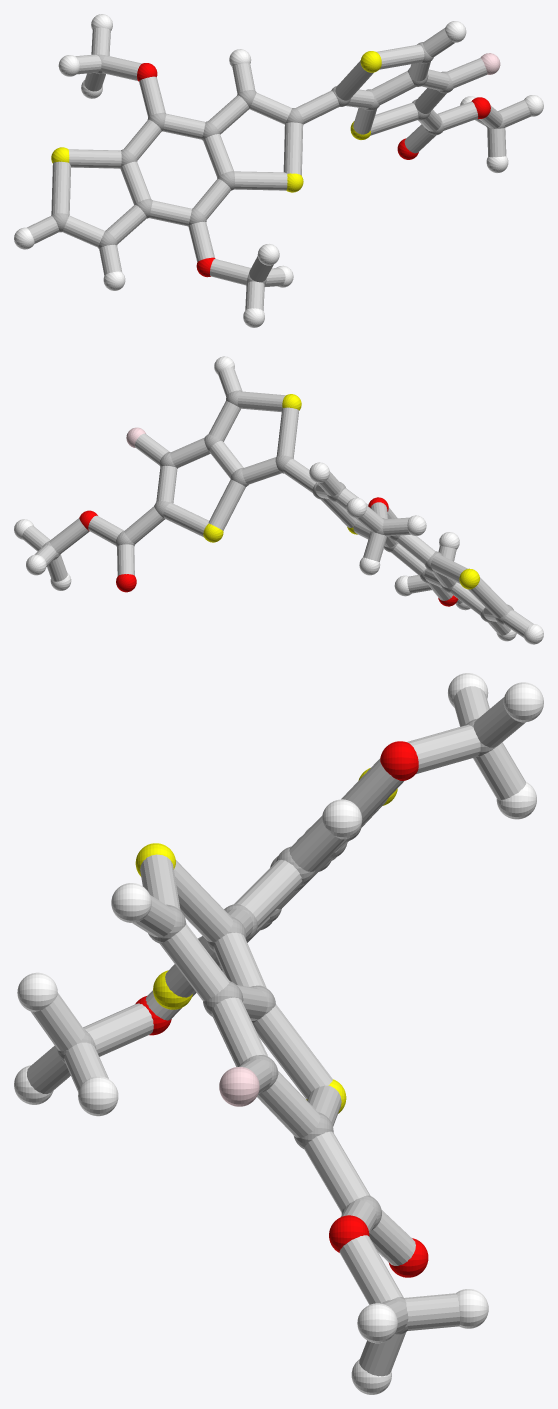
The model's file is Dimethoxy_Benzodithiophene_Phi_5_Theta_80_Methylcarbonyl_3_Fluoro_Thienothiophene.glb.
3 views of the same model, one above another, from view 1: azimuth 30°, elevation 25°; view 2: azimuth 150°, elevation 25°; view 3: azimuth 270°, elevation 25° (orthographic). The views are drawn at different scales.
Parts seen in each view (by area): view 1: grp15205, grp8689, grp1, grp7241, grp13395; view 2: grp15205, grp8689, grp1, grp7241, grp13395; view 3: grp15205, grp8689, grp1, grp13395, grp7241, grp14843.
Part boxes in pixels (x1,y1,x2,y2): grp15205: (27,27,531,310); grp8689: (14,14,543,327); grp1: (51,42,505,284); grp7241: (51,51,381,192); grp13395: (137,63,490,277); grp15205: (22,367,533,637); grp8689: (14,356,543,644); grp1: (42,390,513,624); grp7241: (203,394,479,589); grp13395: (79,497,458,606); grp15205: (27,686,525,1376); grp8689: (14,673,543,1394); grp1: (57,718,495,1334); grp13395: (135,741,428,1277); grp7241: (135,768,397,1113); grp14843: (219,1067,259,1106).
Bounding box in the file's own units: 17.07 × 6.92 × 7.87.
